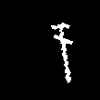double_crochet: (51, 23, 72, 81)
